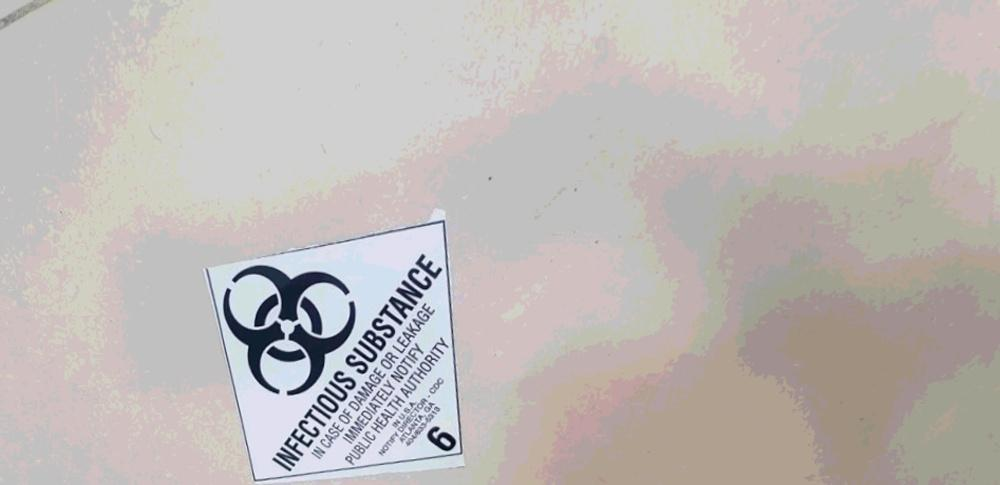infectious-substance: (203, 217, 492, 485)
